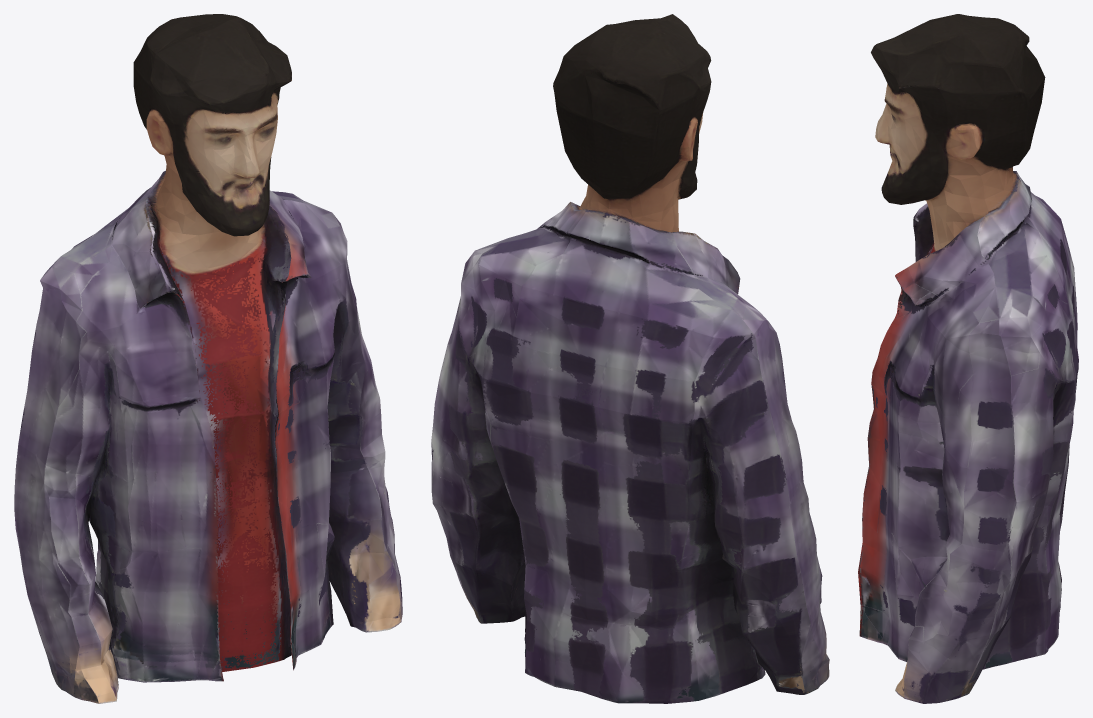
Rendered from step_6.glb.
The picture shows the model from 3 angles, left to right: view 1: azimuth 30°, elevation 25°; view 2: azimuth 150°, elevation 25°; view 3: azimuth 270°, elevation 25°; orthographic projection. The views are drawn at different scales.
Parts seen in each view (by area): view 1: geometry_0; view 2: geometry_0; view 3: geometry_0.
Part boxes in pixels (<box>): geometry_0: <box>14,14,402,703</box>; geometry_0: <box>431,14,829,703</box>; geometry_0: <box>858,14,1078,703</box>.
Size of the model in its own units: 0.5061 by 0.8284 by 0.2754.
Materials: 1 (1 with a texture image).
